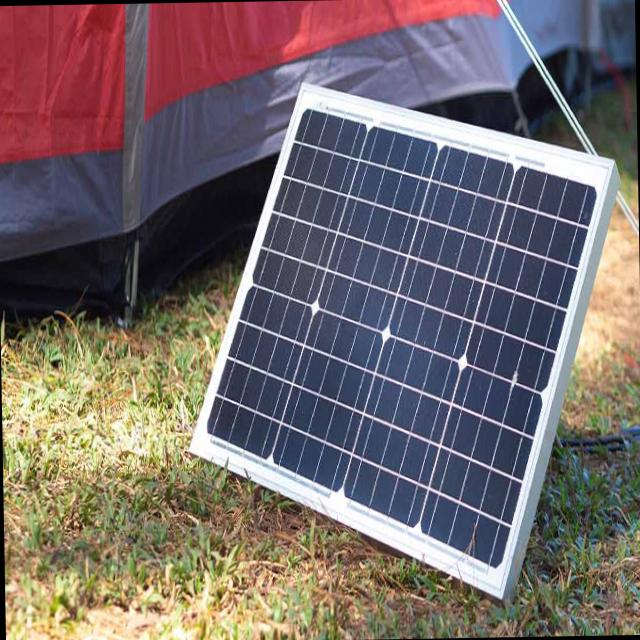no faulty: (208, 108, 586, 564)
